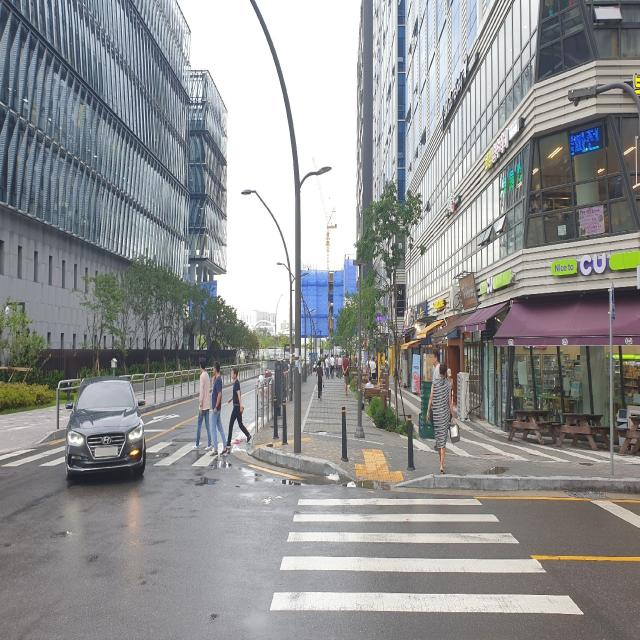횡단보도: (268, 495, 585, 617), (2, 415, 250, 489)
